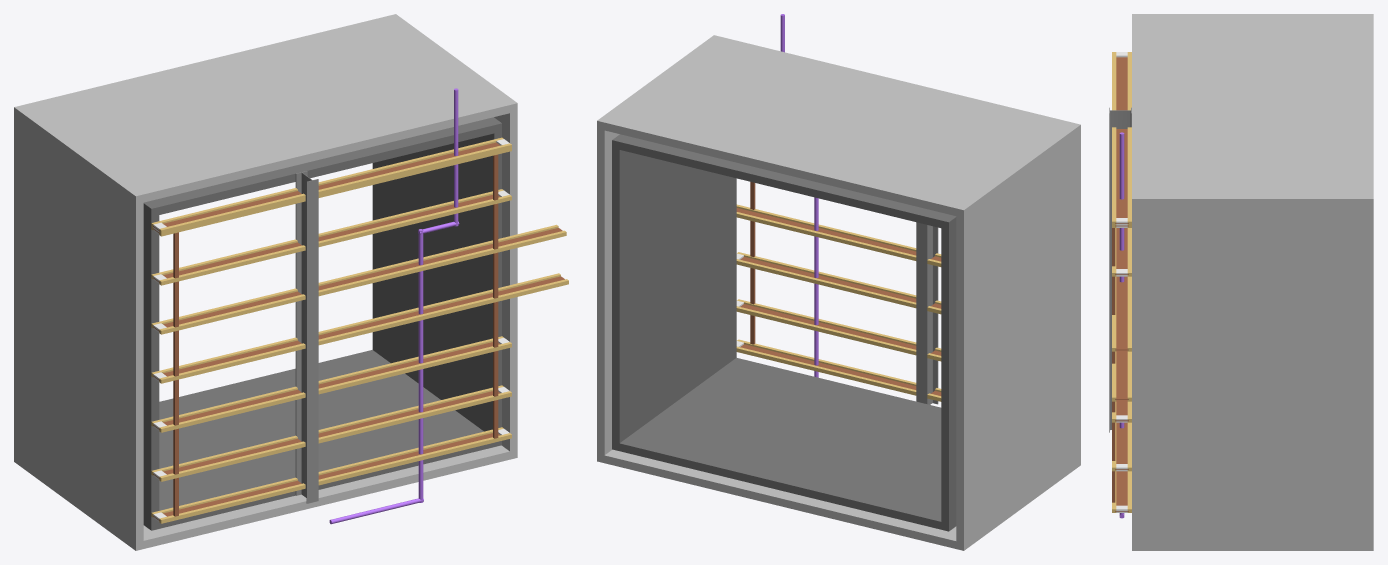
3 renders of one model, left to right at view 1: azimuth 30°, elevation 25°; view 2: azimuth 150°, elevation 25°; view 3: azimuth 270°, elevation 25°, orthographic. The views are drawn at different scales.
Parts seen in each view (by area): view 1: MatrixTransform_Group_Group_MatrixTransform__Geometry_14, MatrixTransform_Group_Group_MatrixTransform__Geometry_2, MatrixTransform_Group_Group_MatrixTransform_MatrixTransform_Grou, MatrixTransform_Group_Group_MatrixTransform__Geometry_4, MatrixTransform_Group_Group_MatrixTransform__Geometry_8, MatrixTransform_Group_Group_MatrixTransform_MatrixTransform__Geo, MatrixTransform_Group_Group_MatrixTransform__Geometry_6, MatrixTransform_Group_Group_MatrixTransform__Geometry_12, MatrixTransform_Group_Group_MatrixTransform__Geometry_0, MatrixTransform_Group_Group_MatrixTransform__Geometry_10, MatrixTransform_Group_Group_MatrixTransform__ShapeDrawable_1; view 2: MatrixTransform_Group_Group_MatrixTransform__Geometry_14, MatrixTransform_Group_Group_MatrixTransform__Geometry_2, MatrixTransform_Group_Group_MatrixTransform__Geometry_4, MatrixTransform_Group_Group_MatrixTransform__Geometry_8, MatrixTransform_Group_Group_MatrixTransform_MatrixTransform_Grou, MatrixTransform_Group_Group_MatrixTransform__Geometry_6, MatrixTransform_Group_Group_MatrixTransform__Geometry_12, MatrixTransform_Group_Group_MatrixTransform__Geometry_10, MatrixTransform_Group_Group_MatrixTransform__Geometry_0, MatrixTransform_Group_Group_MatrixTransform_MatrixTransform__Geo, MatrixTransform_Group_Group_MatrixTransform__ShapeDrawable_1; view 3: MatrixTransform_Group_Group_MatrixTransform__Geometry_10, MatrixTransform_Group_Group_MatrixTransform__Geometry_14, MatrixTransform_Group_Group_MatrixTransform_MatrixTransform_Grou, MatrixTransform_Group_Group_MatrixTransform_MatrixTransform__Geo, MatrixTransform_Group_Group_MatrixTransform__ShapeDrawable_3.
Part boxes in pixels (x1=…): MatrixTransform_Group_Group_MatrixTransform__Geometry_14: x1=14, y1=14, x2=517, y2=202; MatrixTransform_Group_Group_MatrixTransform__Geometry_2: x1=14, y1=107, x2=143, y2=550; MatrixTransform_Group_Group_MatrixTransform_MatrixTransform_Grou: x1=151, y1=137, x2=568, y2=523; MatrixTransform_Group_Group_MatrixTransform__Geometry_4: x1=152, y1=350, x2=501, y2=530; MatrixTransform_Group_Group_MatrixTransform__Geometry_8: x1=372, y1=124, x2=501, y2=444; MatrixTransform_Group_Group_MatrixTransform_MatrixTransform__Geo: x1=295, y1=171, x2=318, y2=503; MatrixTransform_Group_Group_MatrixTransform__Geometry_6: x1=136, y1=445, x2=517, y2=550; MatrixTransform_Group_Group_MatrixTransform__Geometry_12: x1=144, y1=117, x2=501, y2=214; MatrixTransform_Group_Group_MatrixTransform__Geometry_0: x1=143, y1=203, x2=159, y2=530; MatrixTransform_Group_Group_MatrixTransform__Geometry_10: x1=494, y1=104, x2=517, y2=457; MatrixTransform_Group_Group_MatrixTransform__ShapeDrawable_1: x1=418, y1=229, x2=423, y2=502; MatrixTransform_Group_Group_MatrixTransform__Geometry_14: x1=597, y1=35, x2=1080, y2=216; MatrixTransform_Group_Group_MatrixTransform__Geometry_2: x1=956, y1=125, x2=1080, y2=550; MatrixTransform_Group_Group_MatrixTransform__Geometry_4: x1=612, y1=357, x2=948, y2=531; MatrixTransform_Group_Group_MatrixTransform__Geometry_8: x1=612, y1=140, x2=736, y2=448; MatrixTransform_Group_Group_MatrixTransform_MatrixTransform_Grou: x1=736, y1=182, x2=941, y2=401; MatrixTransform_Group_Group_MatrixTransform__Geometry_6: x1=597, y1=449, x2=963, y2=550; MatrixTransform_Group_Group_MatrixTransform__Geometry_12: x1=612, y1=134, x2=956, y2=228; MatrixTransform_Group_Group_MatrixTransform__Geometry_10: x1=597, y1=121, x2=619, y2=460; MatrixTransform_Group_Group_MatrixTransform__Geometry_0: x1=941, y1=217, x2=956, y2=531; MatrixTransform_Group_Group_MatrixTransform_MatrixTransform__Geo: x1=916, y1=222, x2=938, y2=404; MatrixTransform_Group_Group_MatrixTransform__ShapeDrawable_1: x1=814, y1=197, x2=818, y2=377; MatrixTransform_Group_Group_MatrixTransform__Geometry_10: x1=1132, y1=199, x2=1373, y2=550; MatrixTransform_Group_Group_MatrixTransform__Geometry_14: x1=1132, y1=14, x2=1373, y2=198; MatrixTransform_Group_Group_MatrixTransform_MatrixTransform_Grou: x1=1112, y1=52, x2=1131, y2=512; MatrixTransform_Group_Group_MatrixTransform_MatrixTransform__Geo: x1=1109, y1=107, x2=1131, y2=432; MatrixTransform_Group_Group_MatrixTransform__ShapeDrawable_3: x1=1119, y1=132, x2=1124, y2=250.
Bounding box in the file's own units: 5416 × 4941 × 2951.
